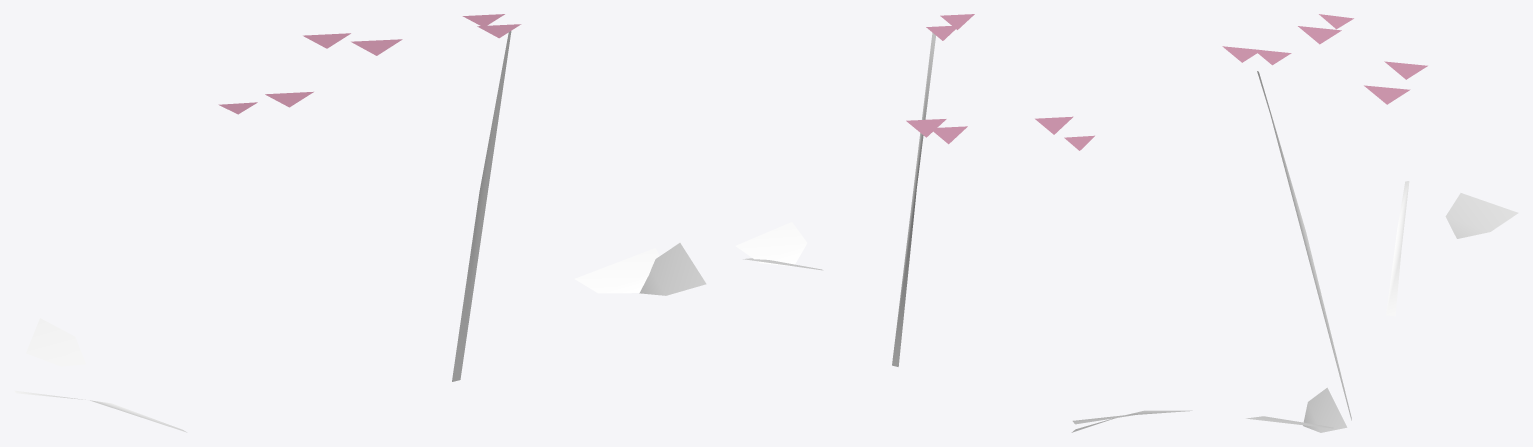
File: RedCloverTuft_LOD3.glb
3 views of the same model, side by side, from view 1: azimuth 30°, elevation 25°; view 2: azimuth 150°, elevation 25°; view 3: azimuth 270°, elevation 25° (orthographic). The views are drawn at different scales.
Visible parts, largest first — view 1: RedCloverTuft_LOD3; view 2: RedCloverTuft_LOD3; view 3: RedCloverTuft_LOD3.
Boxes of the visible parts, x1,y1,x2,y2 form: RedCloverTuft_LOD3: (14, 14, 706, 432); RedCloverTuft_LOD3: (735, 14, 1192, 432); RedCloverTuft_LOD3: (1222, 14, 1518, 432).
Bounding box in the file's own units: 1.09 × 0.6806 × 0.5007.
